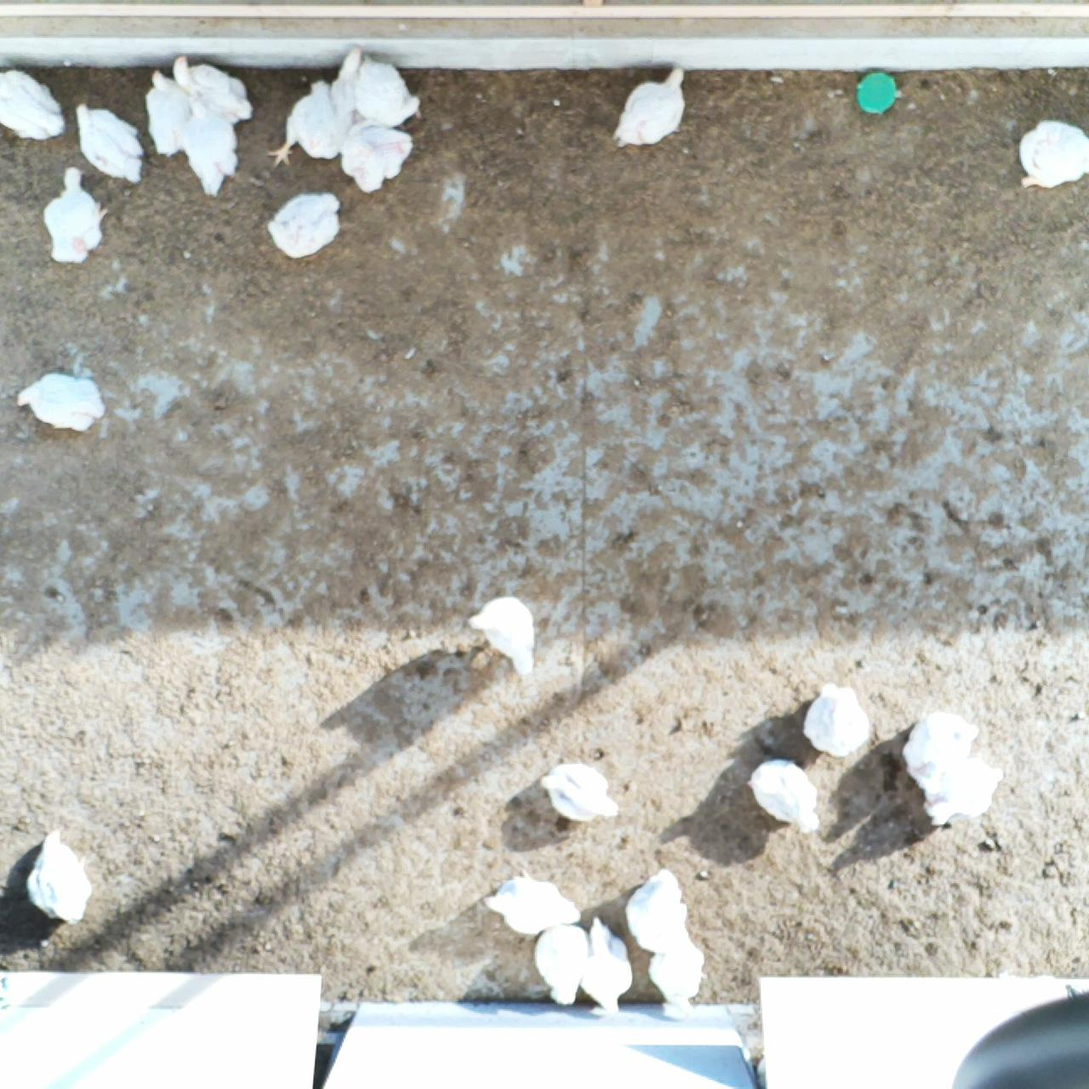chicken: (261, 78, 353, 169), (910, 754, 1009, 831), (171, 90, 242, 197), (623, 868, 699, 964), (24, 824, 93, 928), (480, 867, 581, 938), (41, 164, 109, 265), (609, 67, 690, 151), (167, 51, 254, 128), (467, 592, 538, 683), (748, 754, 826, 834), (575, 918, 636, 1019), (14, 366, 107, 432), (71, 101, 144, 185), (339, 116, 415, 192), (349, 53, 423, 131), (265, 188, 345, 260), (900, 708, 981, 779), (538, 757, 622, 825), (800, 679, 871, 759), (1013, 118, 1089, 192), (647, 932, 707, 1023), (534, 921, 594, 1008), (0, 65, 67, 141), (143, 67, 197, 159), (324, 43, 375, 140)
